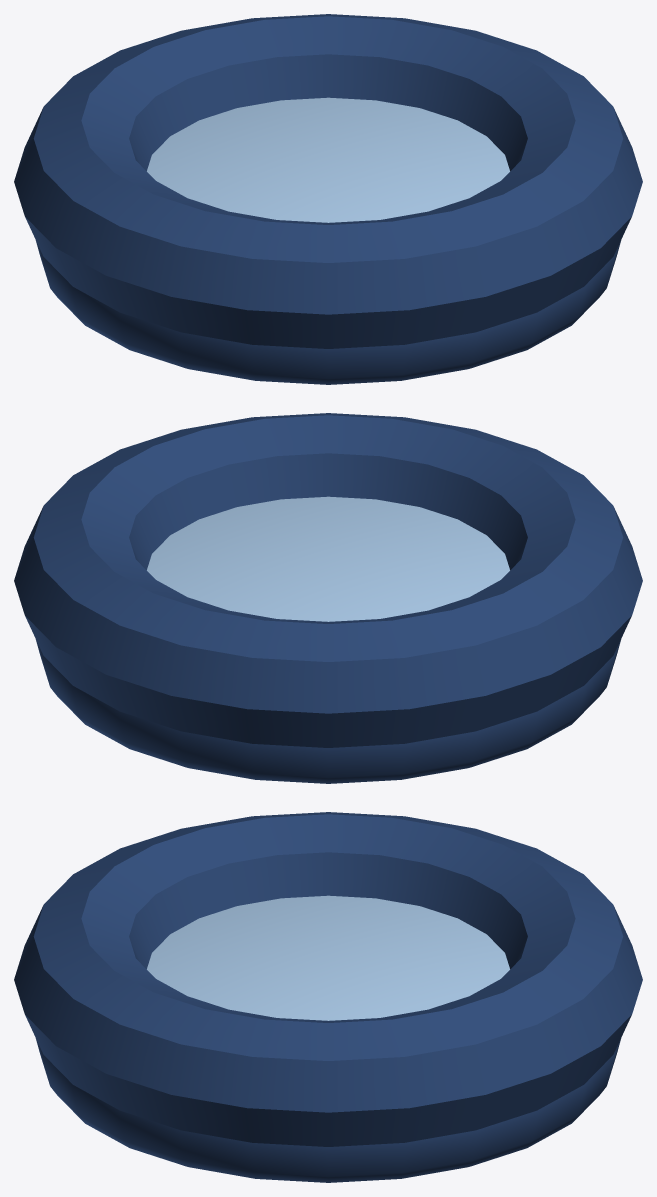
Rendered from t_bed_navy.gltf.
3 views of the same model, one above another, from view 1: azimuth 30°, elevation 25°; view 2: azimuth 150°, elevation 25°; view 3: azimuth 270°, elevation 25° (orthographic).
Parts seen in each view (by area): view 1: t_bed_navy; view 2: t_bed_navy; view 3: t_bed_navy.
Part boxes in pixels (x1,y1,x2,y2): t_bed_navy: (14, 14, 642, 384); t_bed_navy: (14, 413, 642, 783); t_bed_navy: (14, 812, 642, 1182).
Bounding box in the file's own units: 0.84 × 0.22 × 0.84.
Materials: 1 (1 with a texture image).
